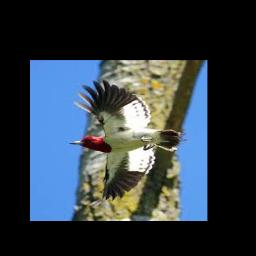Woodpecker: (69, 80, 186, 205)
